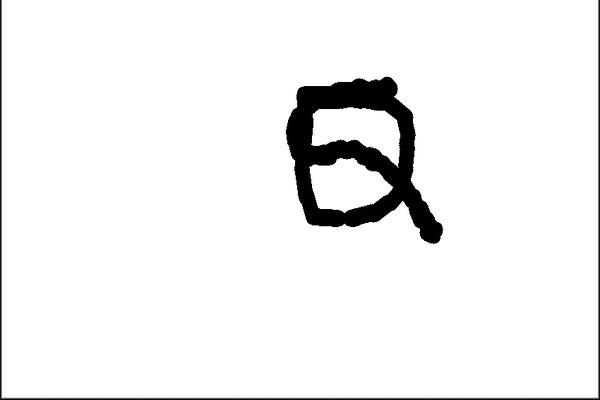Q: (278, 68, 446, 255)
